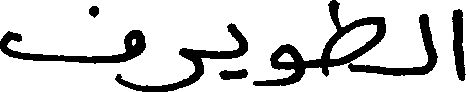ا: (450, 7, 465, 81)
ر: (176, 45, 205, 89)
ط: (319, 0, 387, 77)
ف: (0, 3, 145, 89)
ل: (416, 12, 437, 75)
و: (269, 42, 305, 86)
ي: (226, 21, 248, 81)
